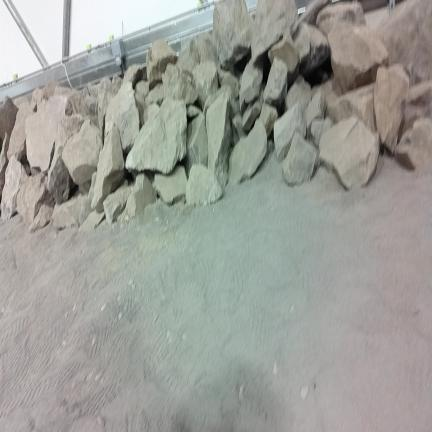Rock: (377, 0, 431, 84), (126, 100, 186, 173), (320, 117, 379, 189), (328, 24, 388, 92), (48, 114, 84, 204), (374, 65, 409, 153), (26, 96, 66, 173), (251, 0, 298, 65), (92, 124, 124, 212), (213, 0, 253, 68), (62, 120, 102, 185), (105, 82, 139, 151), (230, 121, 267, 183), (327, 84, 375, 131), (206, 94, 230, 186), (17, 174, 53, 225), (399, 81, 431, 138), (274, 104, 306, 161), (283, 134, 318, 186), (294, 24, 329, 76), (395, 119, 431, 169), (0, 156, 27, 220), (55, 86, 98, 125), (316, 2, 365, 34), (7, 100, 33, 160), (269, 34, 299, 85), (147, 40, 177, 88), (162, 64, 198, 104), (186, 165, 222, 205), (124, 174, 156, 219), (52, 195, 91, 229), (263, 57, 288, 107), (187, 113, 208, 172), (203, 86, 240, 119), (155, 166, 187, 204), (98, 77, 118, 137), (104, 186, 133, 224), (194, 62, 218, 107), (0, 97, 18, 155), (240, 61, 262, 108), (398, 104, 424, 141), (285, 76, 311, 111), (407, 80, 431, 116), (176, 39, 201, 73), (196, 33, 220, 66), (306, 92, 325, 133), (300, 0, 331, 25), (243, 96, 263, 132), (30, 204, 53, 232), (311, 118, 332, 147), (218, 70, 239, 98), (135, 81, 148, 126), (260, 104, 277, 135), (0, 135, 8, 198), (80, 212, 104, 232), (123, 65, 143, 88), (146, 83, 164, 105), (232, 114, 245, 144), (43, 80, 59, 100), (30, 88, 43, 112), (144, 104, 160, 122), (135, 81, 149, 101), (88, 172, 96, 203), (187, 105, 202, 118), (86, 83, 98, 99), (14, 97, 29, 109), (112, 76, 122, 93), (79, 181, 91, 195), (129, 170, 142, 180)
